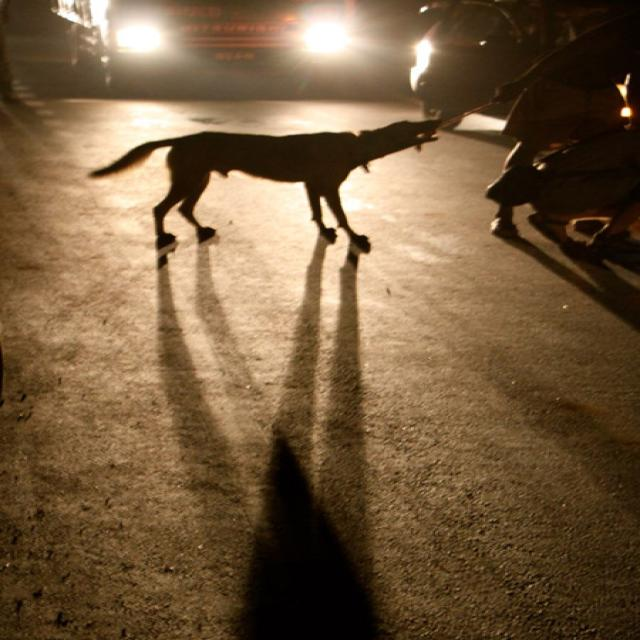dog: (131, 84, 434, 255)
